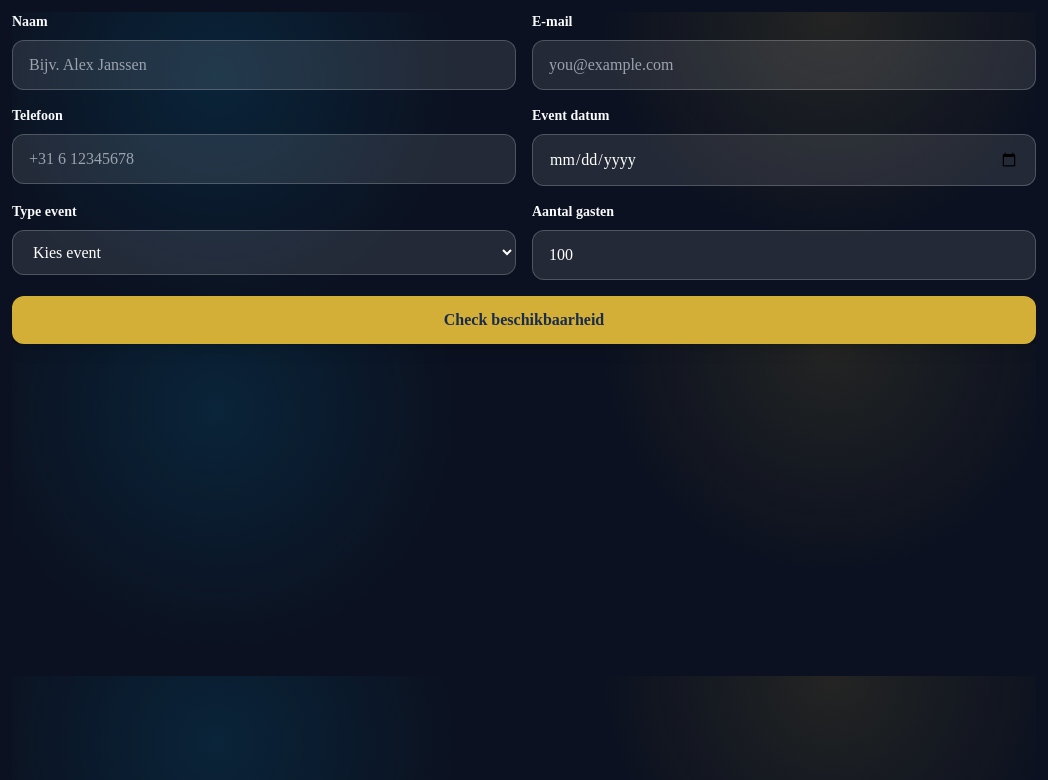
Test: AvailabilityForm analytics payload › keeps granted analytics payloads whitelisted while delivering the full lead
The image size is (1048, 780).
Type "Test Naam" into the field labelled "Naam" at (264, 65), box [12, 40, 516, 90]
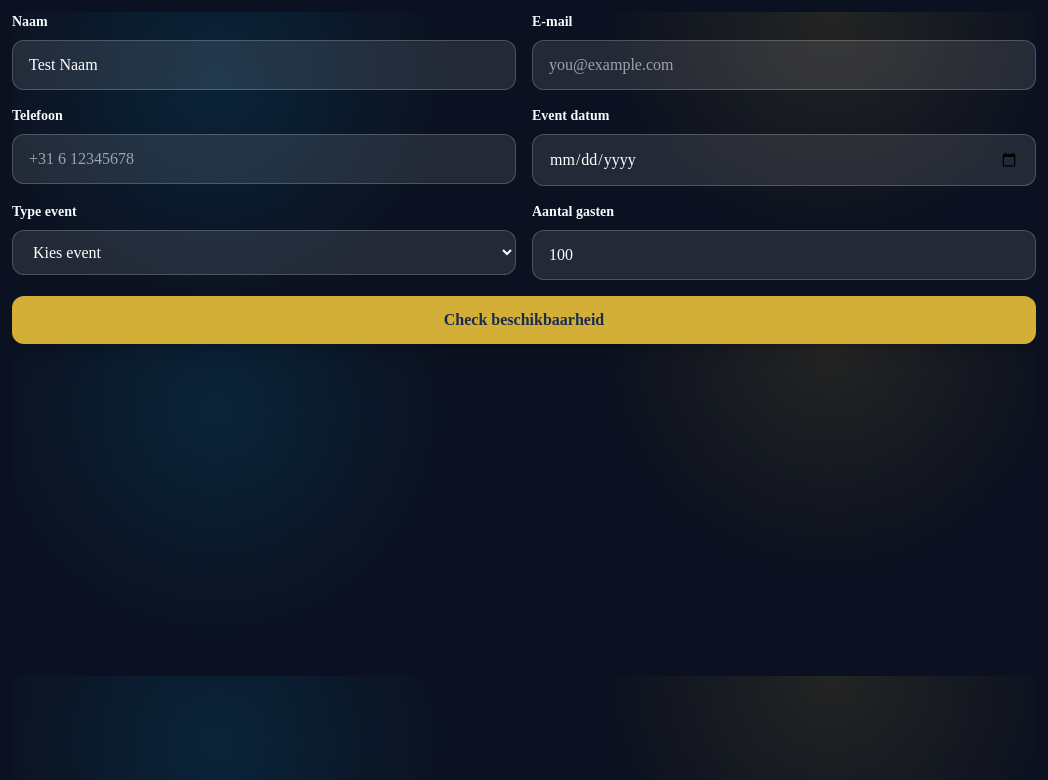
Type "test@example.test" into the field labelled "E-mail" at (784, 65), box [532, 40, 1036, 90]
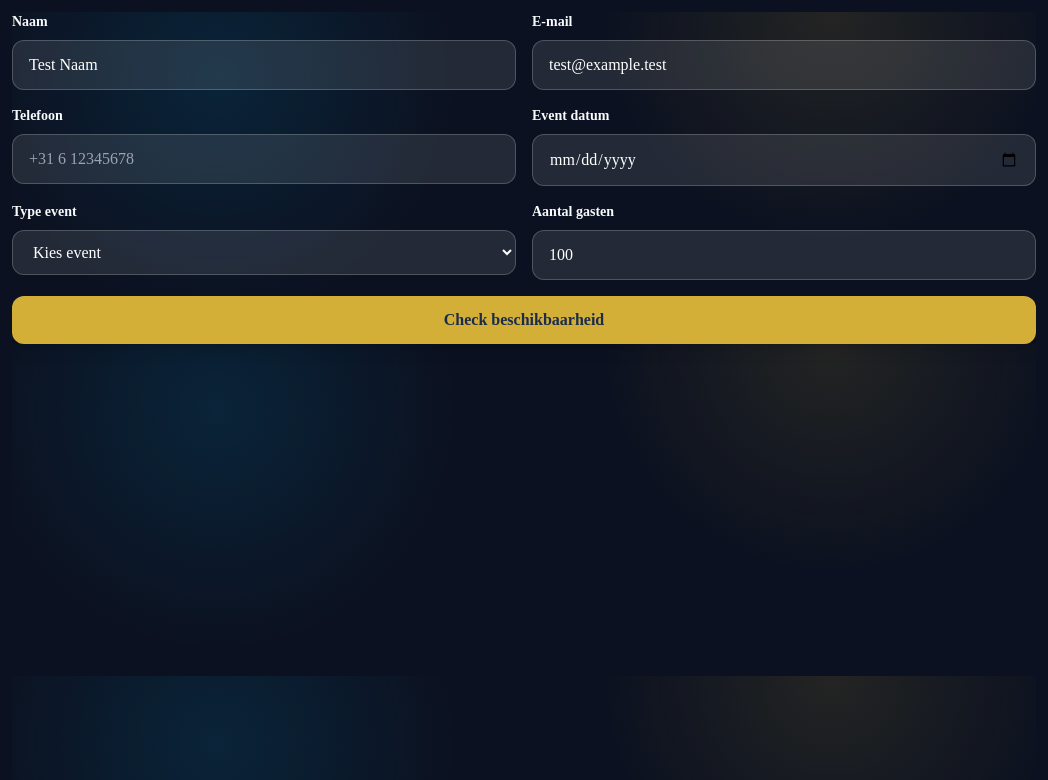
Type "+31600000000" into the field labelled "Telefoon" at (264, 159), box [12, 134, 516, 184]
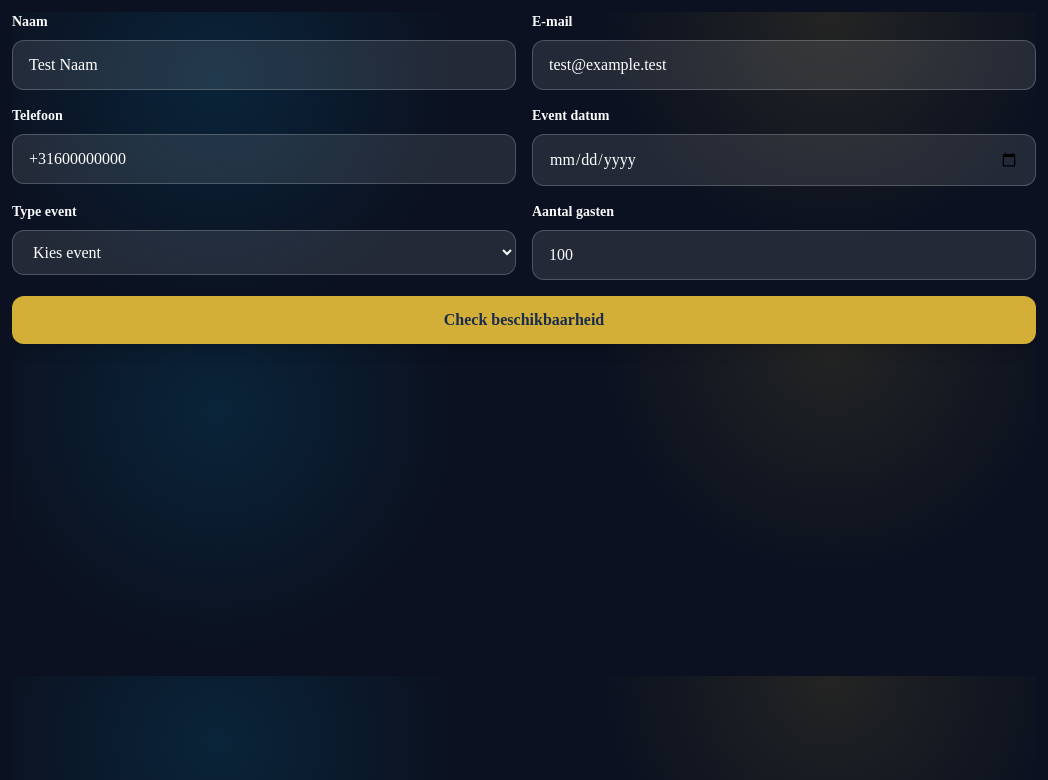
Type "2030-01-01" into the date field labelled "Event datum" at (784, 160), box [532, 134, 1036, 186]
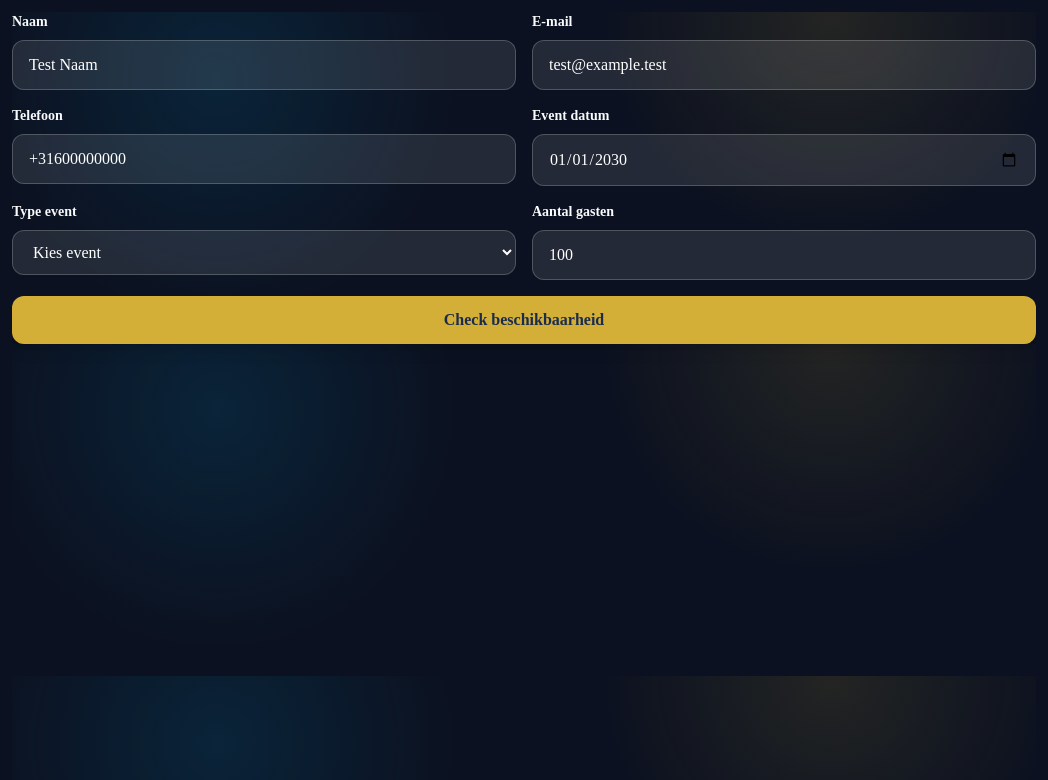
Select "Bruiloft" in the dropdown labelled "Type event" at (264, 252), box [12, 230, 516, 275]
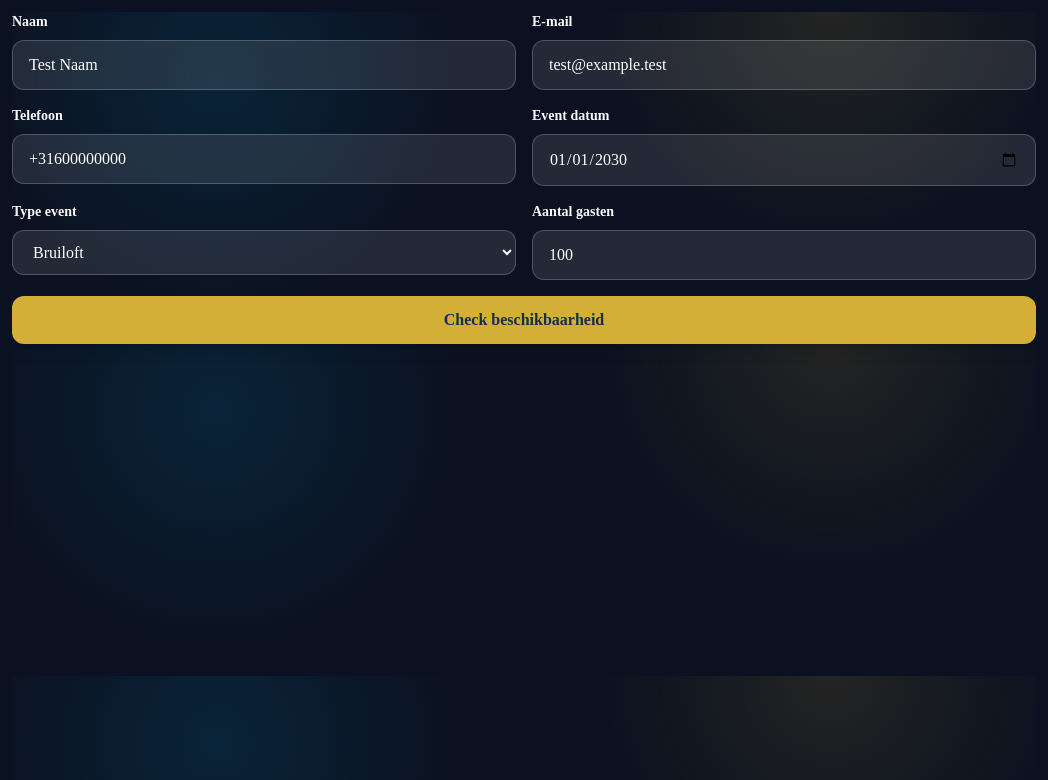
Click the button "Check beschikbaarheid" at (524, 320), box [12, 296, 1036, 344]
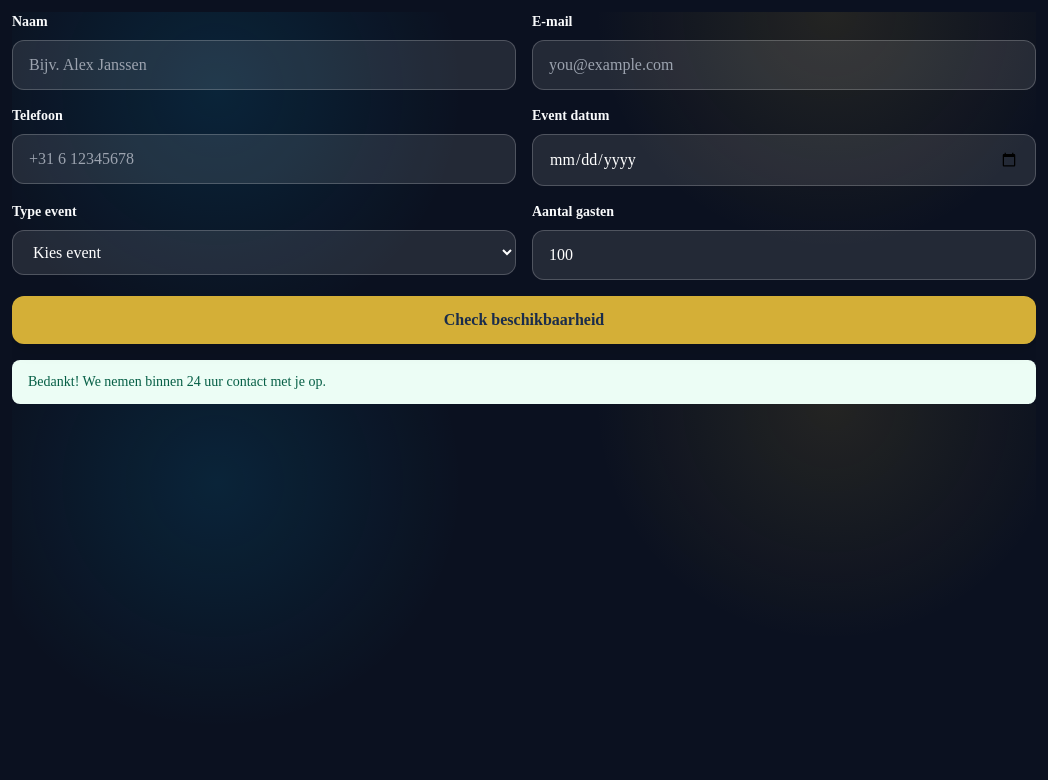
Now the message shows "We nemen binnen 24 uur contact met je op.", box [28, 374, 326, 389]
